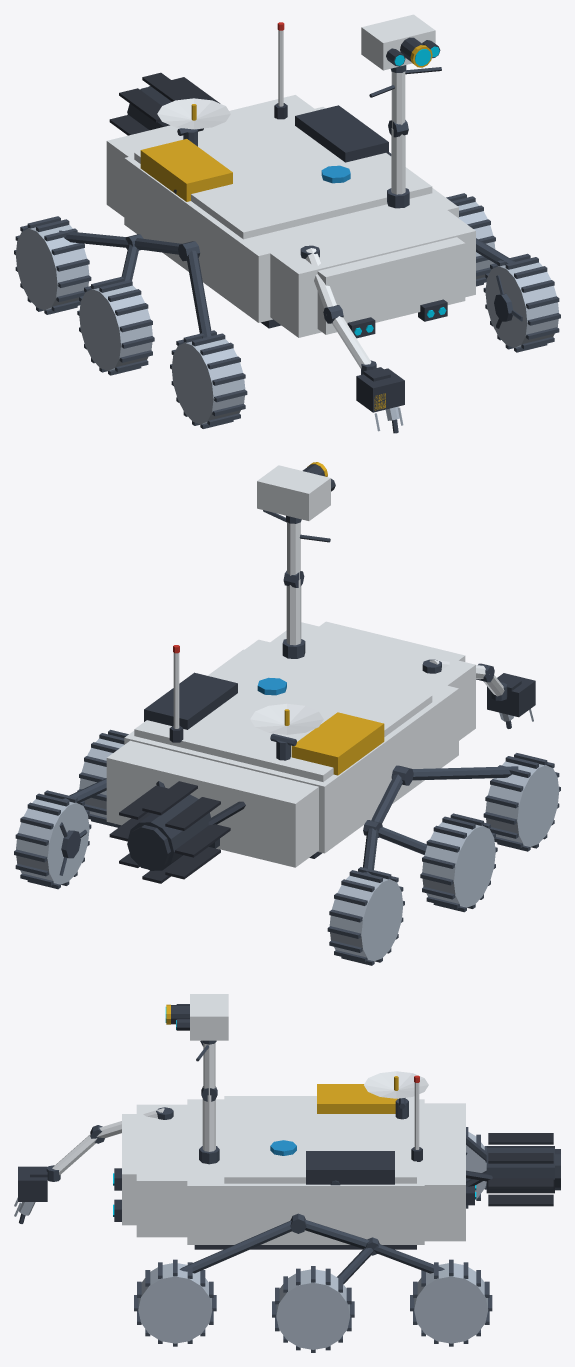
Rendered from Rover_Perseverance.fbx.
3 views of the same model, one above another, from view 1: azimuth 30°, elevation 25°; view 2: azimuth 150°, elevation 25°; view 3: azimuth 270°, elevation 25° (orthographic). The views are drawn at different scales.
Parts seen in each view (by area): view 1: Rover_Perseverance; view 2: Rover_Perseverance; view 3: Rover_Perseverance.
Boxes of the visible parts, x1,y1,x2,y2 form: Rover_Perseverance: (14, 14, 560, 433); Rover_Perseverance: (14, 462, 560, 965); Rover_Perseverance: (14, 994, 560, 1352).
Size of the model in its own units: 1.16 by 0.967 by 1.66.
